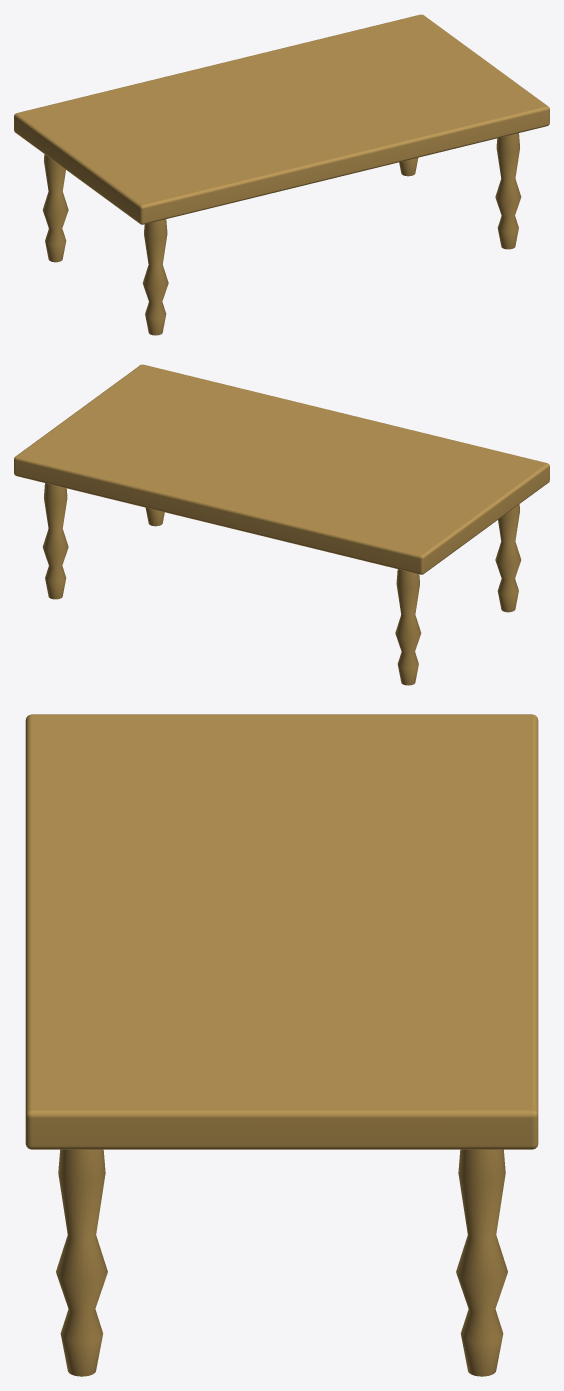
The model's file is wh-sleek-gold-coffee-table.glb.
The picture shows the model from 3 angles, top to bottom: view 1: azimuth 30°, elevation 25°; view 2: azimuth 150°, elevation 25°; view 3: azimuth 270°, elevation 25°; orthographic projection. The views are drawn at different scales.
Visible parts, largest first — view 1: Table top.008; view 2: Table top.008; view 3: Table top.008.
Boxes of the visible parts, box(x1,y1,x2,y2) form: Table top.008: box(14, 14, 549, 335); Table top.008: box(14, 364, 549, 685); Table top.008: box(25, 714, 538, 1376).
Bounding box in the file's own units: 1.2 × 0.4 × 0.65.
